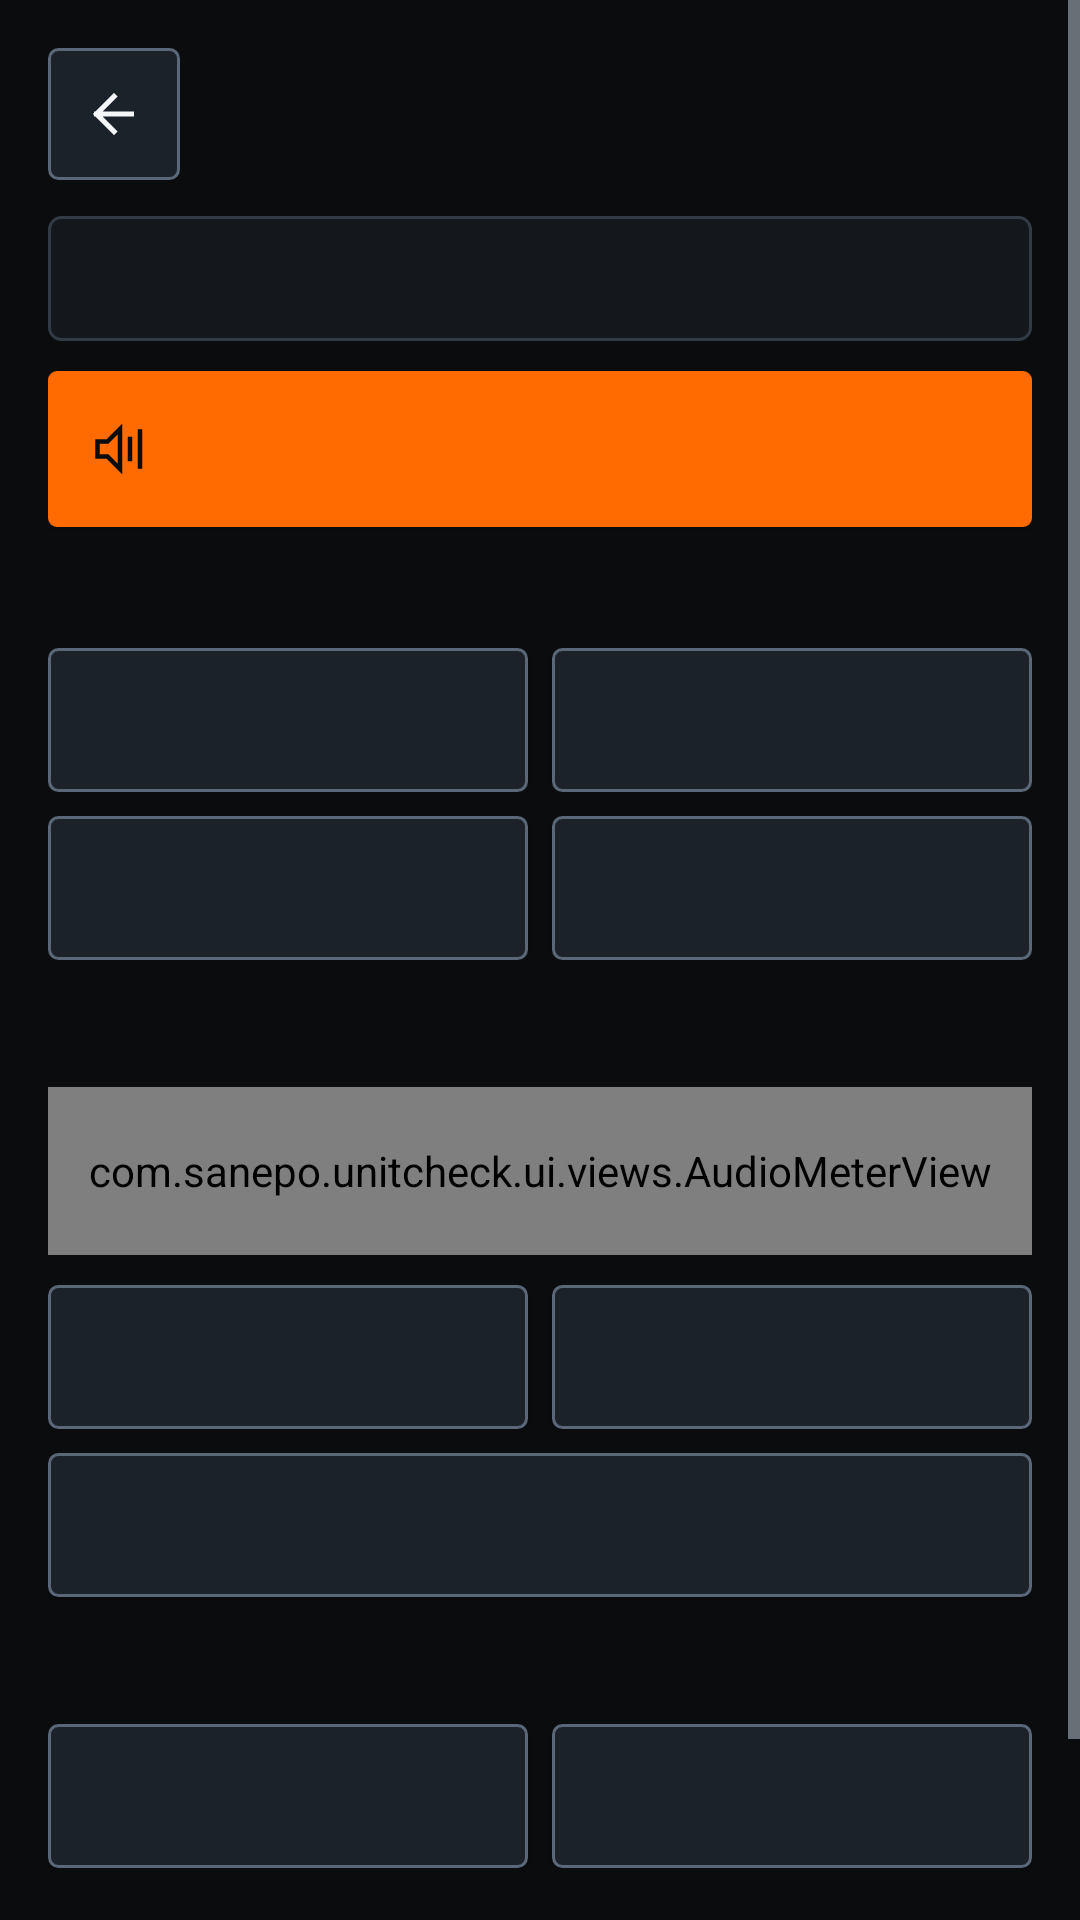

Point at icon controls on the screen. Image size 1080w x 1920h, points as point (x, y).
Back: point (114, 114)
